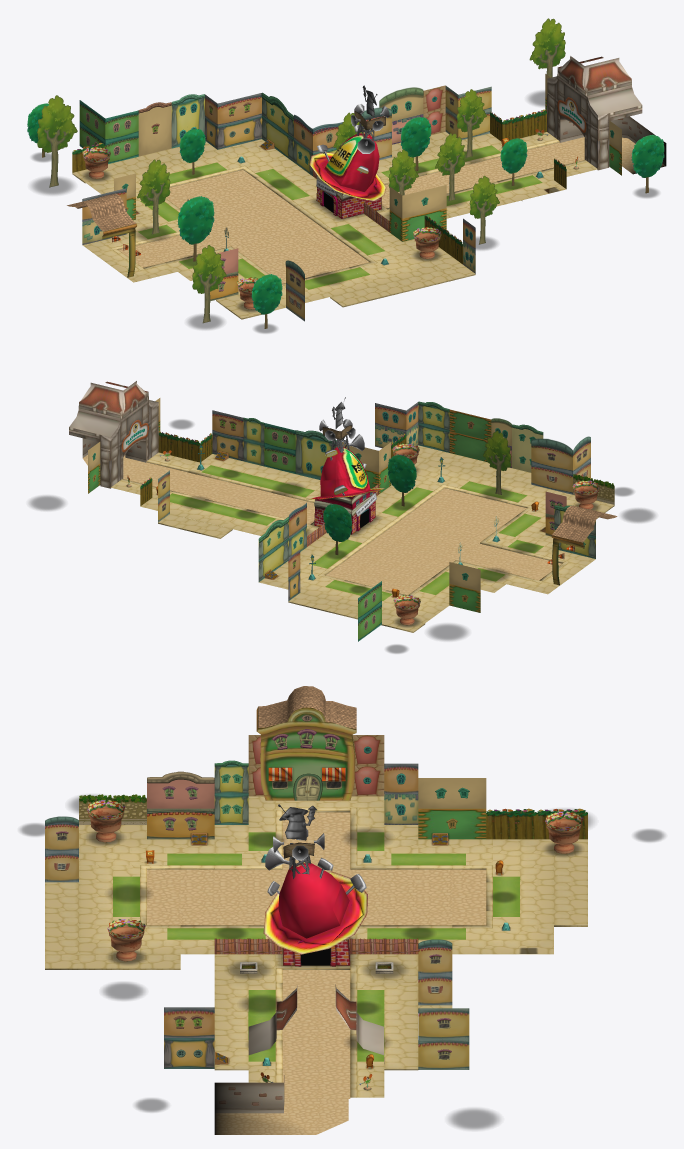
The model's file is tutorial_zone.glb.
3 views of the same model, one above another, from view 1: azimuth 30°, elevation 25°; view 2: azimuth 150°, elevation 25°; view 3: azimuth 270°, elevation 25° (orthographic). The views are drawn at different scales.
Parts seen in each view (by area): view 1: wall_md_dental_ur (×7), wall_md_pillars_ur (×5), p273_6__billboard (×4), shadow, p265_2__billboard (×4), interior_corner_w_grass_sidewalk (×3), street_street_20x20_street (×4), tunnel_down_entrance, p273_7__billboard (×3), wall_sm_brick_ur (×4), street_sidewalk_10x40_sidewalk (×3), wall_lg_brick_ur (×3) (+25 smaller); view 2: wall_md_pillars_ur (×8), wall_md_dental_ur (×6), wall_sm_brick_ur (×5), interior_corner_w_grass_sidewalk (×4), shadow, street_street_20x20_street (×4), tunnel_down_entrance, exterior_corner_w_grass_street (×2), street_w_grass_30x20_street (×4), safe_zone_entrance_front, street_grass_transition_60x20_sidewalk (×2), street_grass_transition_60x20_street (×2) (+22 smaller); view 3: interior_corner_w_grass_sidewalk (×4), wall_md_dental_ur (×4), shadow, building1_landmark3c_awnings, street_sidewalk_10x40_sidewalk (×3), wall_md_pillars_ur (×2), street_grass_transition_60x20_sidewalk (×2), street_street_20x20_street (×3), wall_sm_brick_ur, street_w_grass_30x20_street (×4), street_inner_corner_sidewalk (×4), tunnel_floor (+26 smaller).
Boxes of the visible parts, left/top/right/bottom form: wall_md_dental_ur (×7): left=79, top=86, right=491, bottom=321; wall_md_pillars_ur (×5): left=171, top=93, right=312, bottom=175; p273_6__billboard (×4): left=37, top=89, right=499, bottom=322; shadow: left=309, top=104, right=389, bottom=220; p265_2__billboard (×4): left=177, top=134, right=664, bottom=328; interior_corner_w_grass_sidewalk (×3): left=85, top=139, right=440, bottom=285; street_street_20x20_street (×4): left=190, top=184, right=335, bottom=267; tunnel_down_entrance: left=548, top=56, right=642, bottom=170; p273_7__billboard (×3): left=137, top=18, right=565, bottom=234; wall_sm_brick_ur (×4): left=114, top=120, right=621, bottom=241; street_sidewalk_10x40_sidewalk (×3): left=116, top=141, right=475, bottom=301; wall_lg_brick_ur (×3): left=82, top=94, right=475, bottom=273; wall_md_pillars_ur (×8): left=212, top=404, right=595, bottom=600; wall_md_dental_ur (×6): left=158, top=423, right=590, bottom=641; wall_sm_brick_ur (×5): left=88, top=409, right=491, bottom=612; interior_corner_w_grass_sidewalk (×4): left=259, top=459, right=580, bottom=622; shadow: left=306, top=419, right=384, bottom=535; street_street_20x20_street (×4): left=357, top=502, right=494, bottom=582; tunnel_down_entrance: left=69, top=381, right=158, bottom=488; exterior_corner_w_grass_street (×2): left=411, top=521, right=521, bottom=578; street_w_grass_30x20_street (×4): left=337, top=493, right=506, bottom=590; safe_zone_entrance_front: left=110, top=399, right=158, bottom=488; street_grass_transition_60x20_sidewalk (×2): left=140, top=454, right=320, bottom=535; street_grass_transition_60x20_street (×2): left=170, top=472, right=312, bottom=518; interior_corner_w_grass_sidewalk (×4): left=79, top=839, right=553, bottom=954; wall_md_dental_ur (×4): left=45, top=779, right=469, bottom=1069; shadow: left=263, top=829, right=367, bottom=968; building1_landmark3c_awnings: left=256, top=686, right=356, bottom=800; street_sidewalk_10x40_sidewalk (×3): left=45, top=868, right=587, bottom=969; wall_md_pillars_ur (×2): left=164, top=764, right=248, bottom=1068; street_grass_transition_60x20_sidewalk (×2): left=214, top=983, right=418, bottom=1068; street_street_20x20_street (×3): left=180, top=884, right=452, bottom=912; wall_sm_brick_ur: left=418, top=778, right=486, bottom=839; street_w_grass_30x20_street (×4): left=147, top=884, right=486, bottom=925; street_inner_corner_sidewalk (×4): left=248, top=796, right=384, bottom=982; tunnel_floor: left=214, top=1099, right=348, bottom=1134.
Bounding box in the file's own units: 247 × 52.01 × 193.
Materials: 95 (92 with a texture image).
